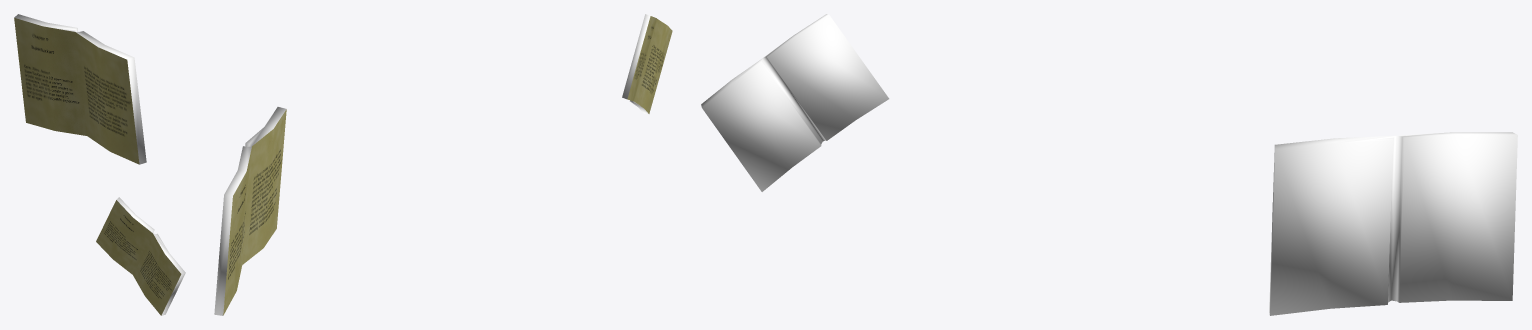
The model's file is book_a.glb.
The picture shows the model from 3 angles, left to right: view 1: azimuth 30°, elevation 25°; view 2: azimuth 150°, elevation 25°; view 3: azimuth 270°, elevation 25°; orthographic projection. The views are drawn at different scales.
Visible parts, largest first — view 1: stk_generic_stkBook_a.jpg__, stk_books_a.png__; view 2: stk_generic_stkBook_a.jpg__, stk_books_a.png__; view 3: stk_books_a.png__.
Boxes of the visible parts, x1,y1,x2,y2 form: stk_generic_stkBook_a.jpg__: (14,18,181,315); stk_books_a.png__: (14,14,185,315); stk_generic_stkBook_a.jpg__: (223,16,672,315); stk_books_a.png__: (214,14,650,315); stk_books_a.png__: (701,14,1517,315).
Bounding box in the file's own units: 2.19 × 1.45 × 5.78.
2 materials, 1 textured.
